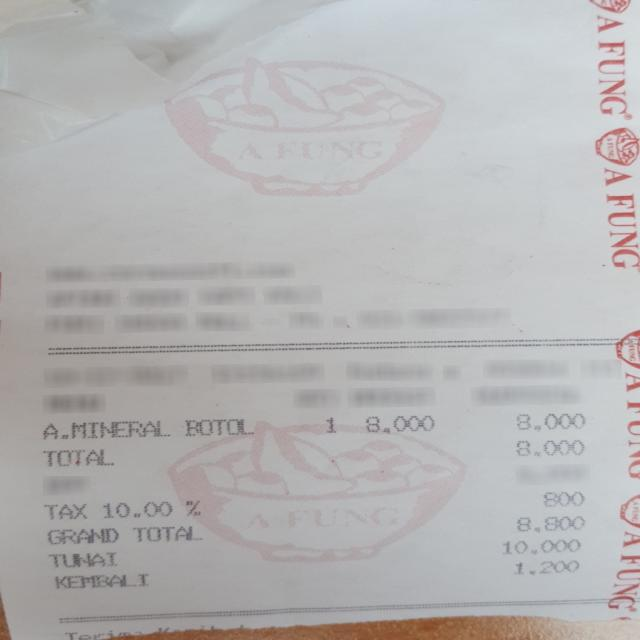kertas: (1, 0, 640, 640)
